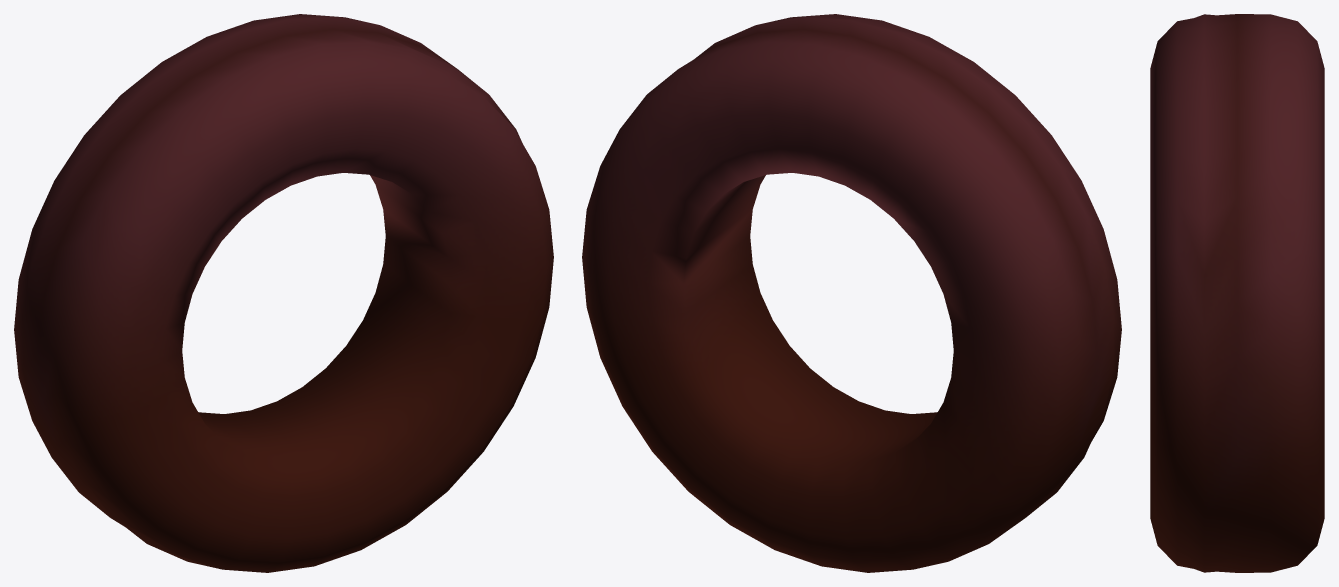
The model's file is The tire is red.fbx.
3 views of the same model, side by side, from view 1: azimuth 30°, elevation 25°; view 2: azimuth 150°, elevation 25°; view 3: azimuth 270°, elevation 25° (orthographic).
Visible parts, largest first — view 1: The tire is red; view 2: The tire is red; view 3: The tire is red.
Boxes of the visible parts, x1,y1,x2,y2 form: The tire is red: (14, 14, 553, 572); The tire is red: (582, 14, 1121, 572); The tire is red: (1150, 14, 1324, 572).
Bounding box in the file's own units: 254 × 254 × 78.99.
